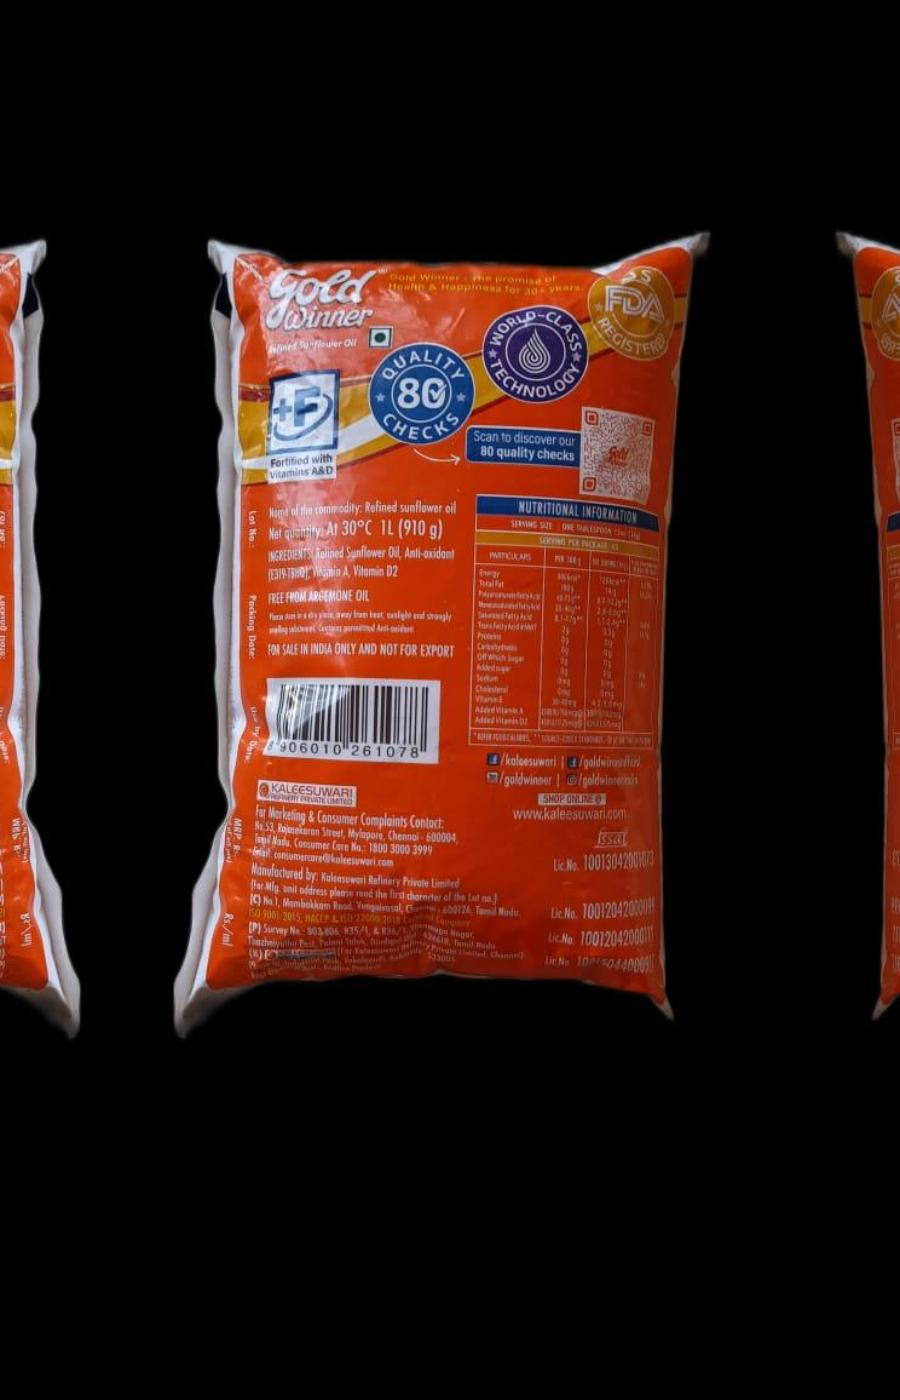Gold Oil: (203, 230, 703, 1024)
